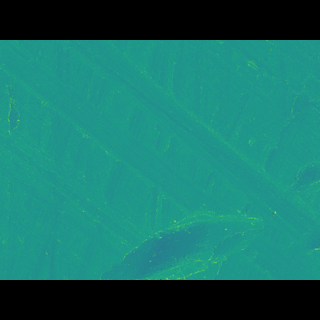Loch: (0, 70, 320, 249), (94, 194, 268, 251), (270, 158, 320, 231), (0, 101, 31, 145)
